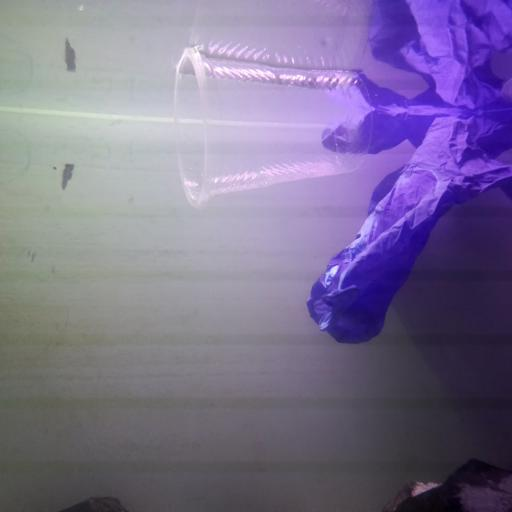glove: (306, 1, 512, 346)
plastic_cup: (170, 42, 374, 212)
